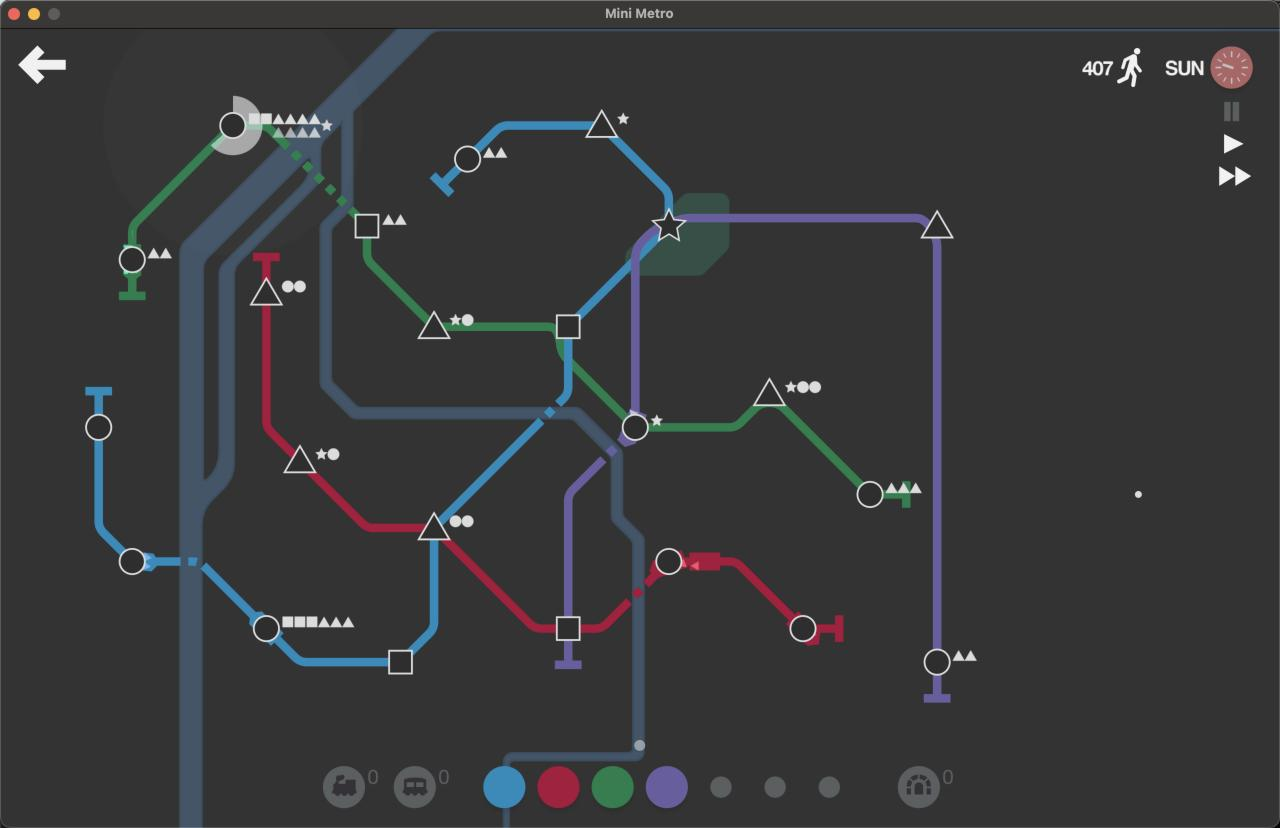CIRCLE: (620, 411, 650, 443), (252, 613, 281, 644), (789, 614, 818, 644), (654, 547, 684, 576), (118, 244, 146, 275), (118, 547, 147, 576), (856, 479, 884, 509), (923, 648, 951, 677), (219, 111, 247, 140), (454, 144, 481, 173), (85, 414, 112, 441)
SQUARE: (555, 615, 581, 642), (555, 313, 582, 339), (387, 648, 413, 675), (353, 213, 379, 239)
STAR: (649, 208, 686, 243)
TRIANGLE: (416, 510, 452, 542), (416, 309, 451, 340), (584, 108, 618, 139), (283, 444, 317, 475), (249, 276, 283, 307), (920, 209, 955, 239), (752, 377, 786, 407)
